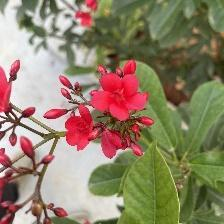jatropha: (94, 69, 149, 120), (66, 104, 96, 151)
